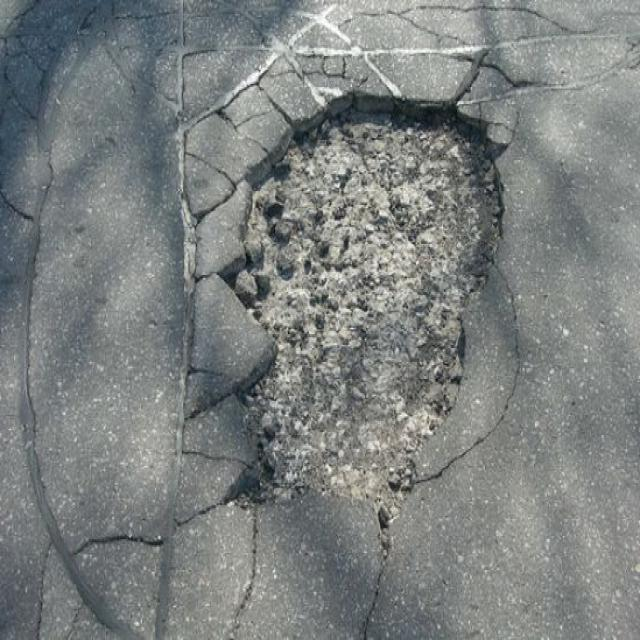Pothole: (206, 87, 514, 514)
